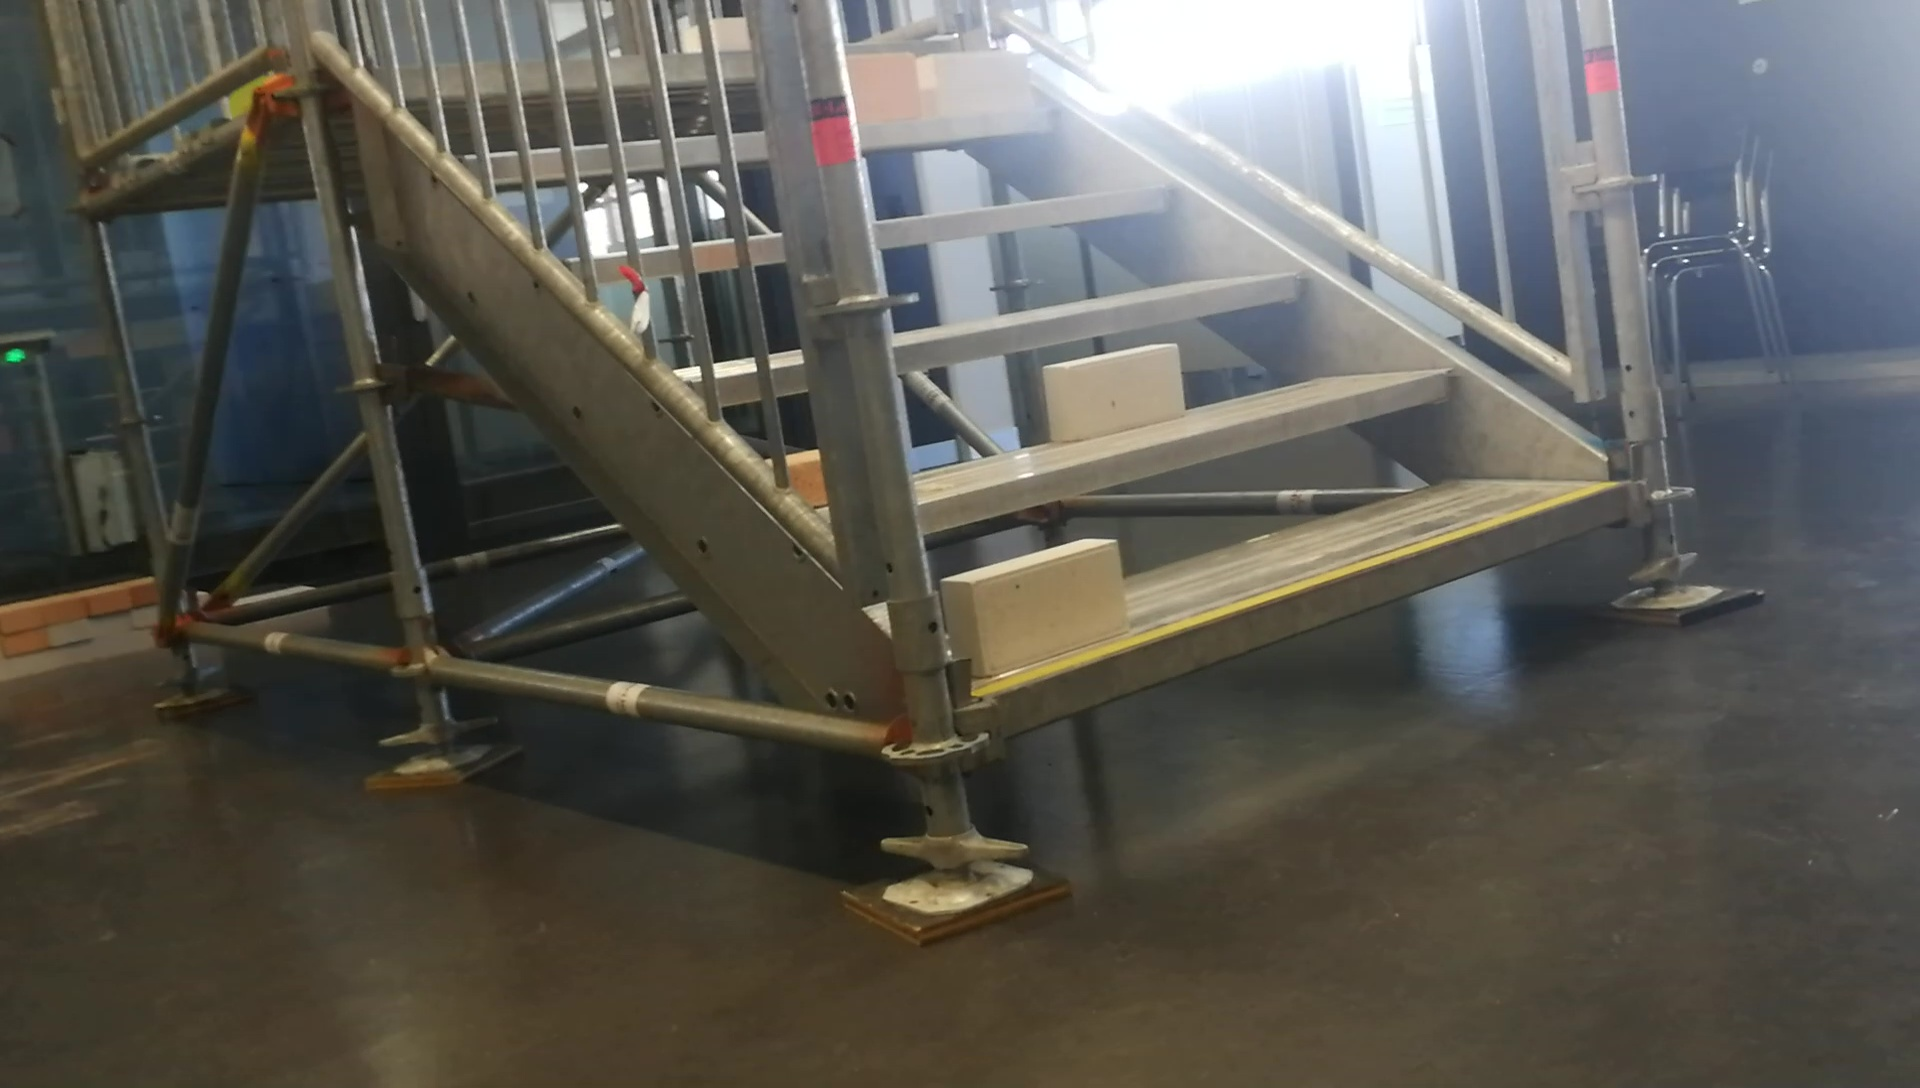brick: (943, 538, 1120, 673), (1048, 343, 1178, 440), (923, 55, 1030, 115), (845, 53, 915, 117)
edge: (994, 485, 1630, 736)
stairs: (918, 3, 1766, 946)
